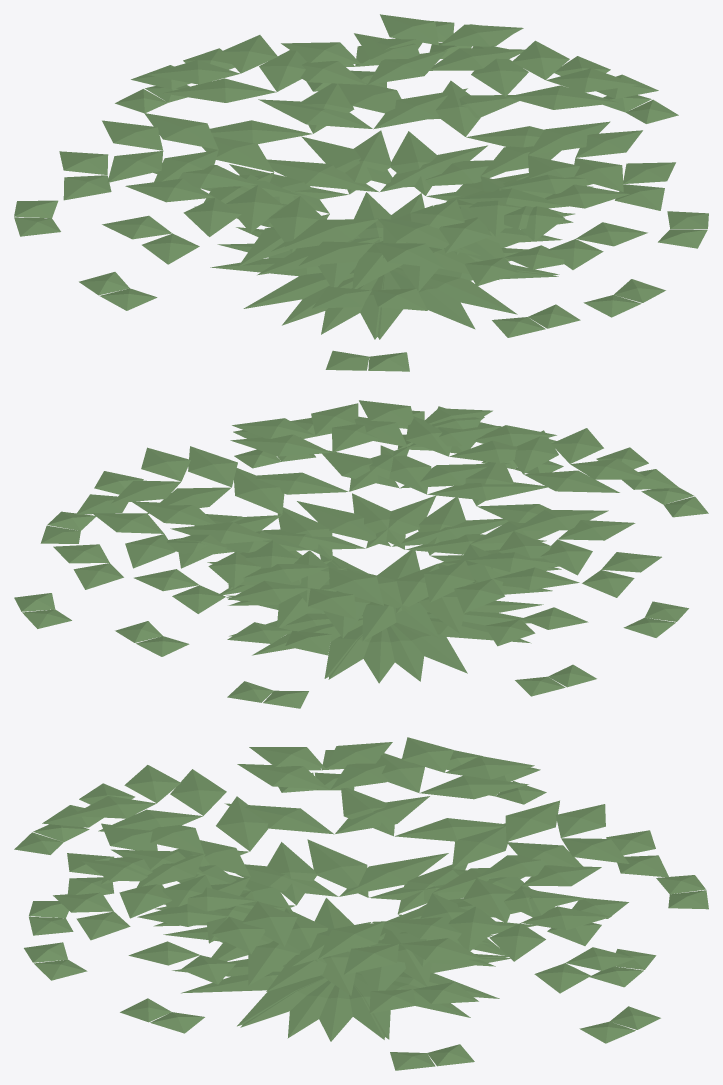
File: v03_fern.fbx
3 views of the same model, one above another, from view 1: azimuth 30°, elevation 25°; view 2: azimuth 150°, elevation 25°; view 3: azimuth 270°, elevation 25° (orthographic). The views are drawn at different scales.
Parts seen in each view (by area): view 1: v03_fern.003; view 2: v03_fern.003; view 3: v03_fern.003.
Boxes of the visible parts, <box> form: v03_fern.003: <box>14,14,708,371</box>; v03_fern.003: <box>14,400,708,708</box>; v03_fern.003: <box>14,737,708,1070</box>.
Bounding box in the file's own units: 8492 × 8567 × 1623.
